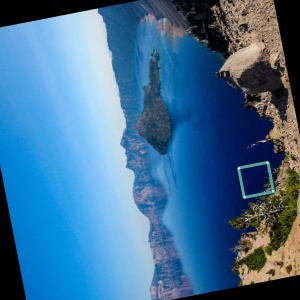square: (233, 159, 277, 199)
